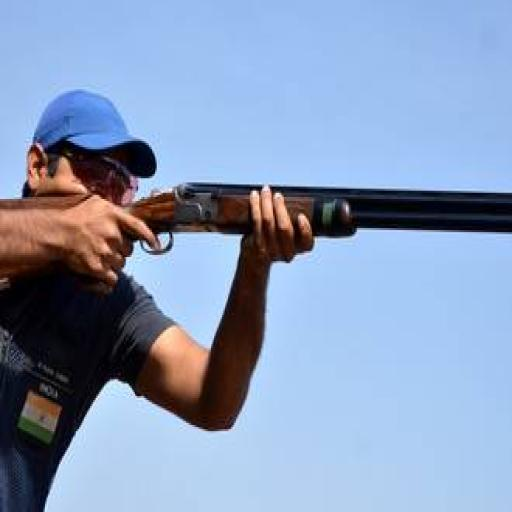shooting: (0, 85, 318, 510)
